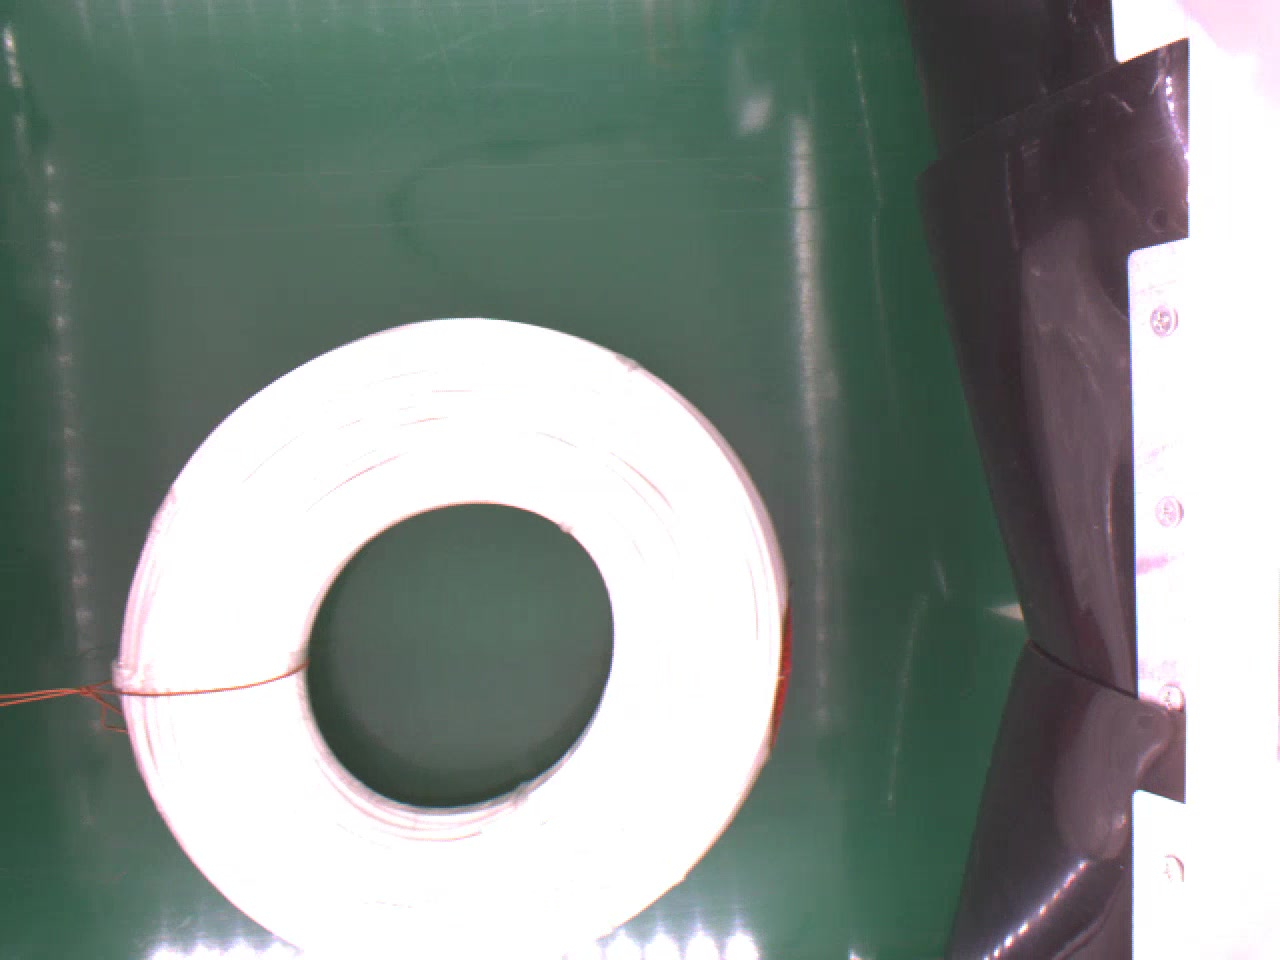white: (112, 316, 785, 960)
